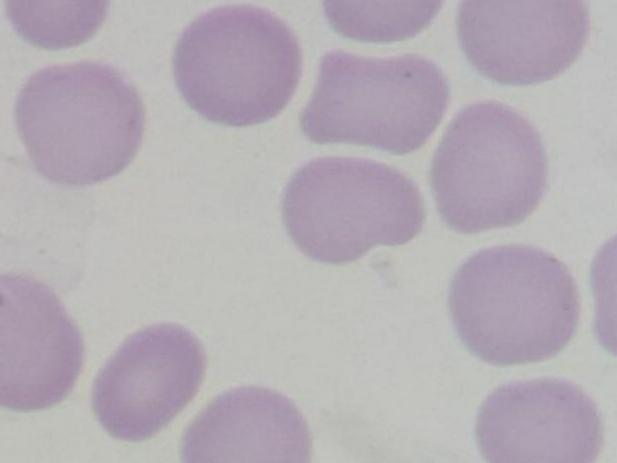Uninfected: (449, 240, 581, 367), (19, 59, 148, 187), (279, 153, 424, 266), (426, 102, 551, 230), (171, 3, 300, 126), (299, 48, 448, 152), (91, 318, 205, 440), (0, 272, 86, 412), (451, 0, 591, 84), (471, 378, 605, 463), (180, 383, 313, 463)
